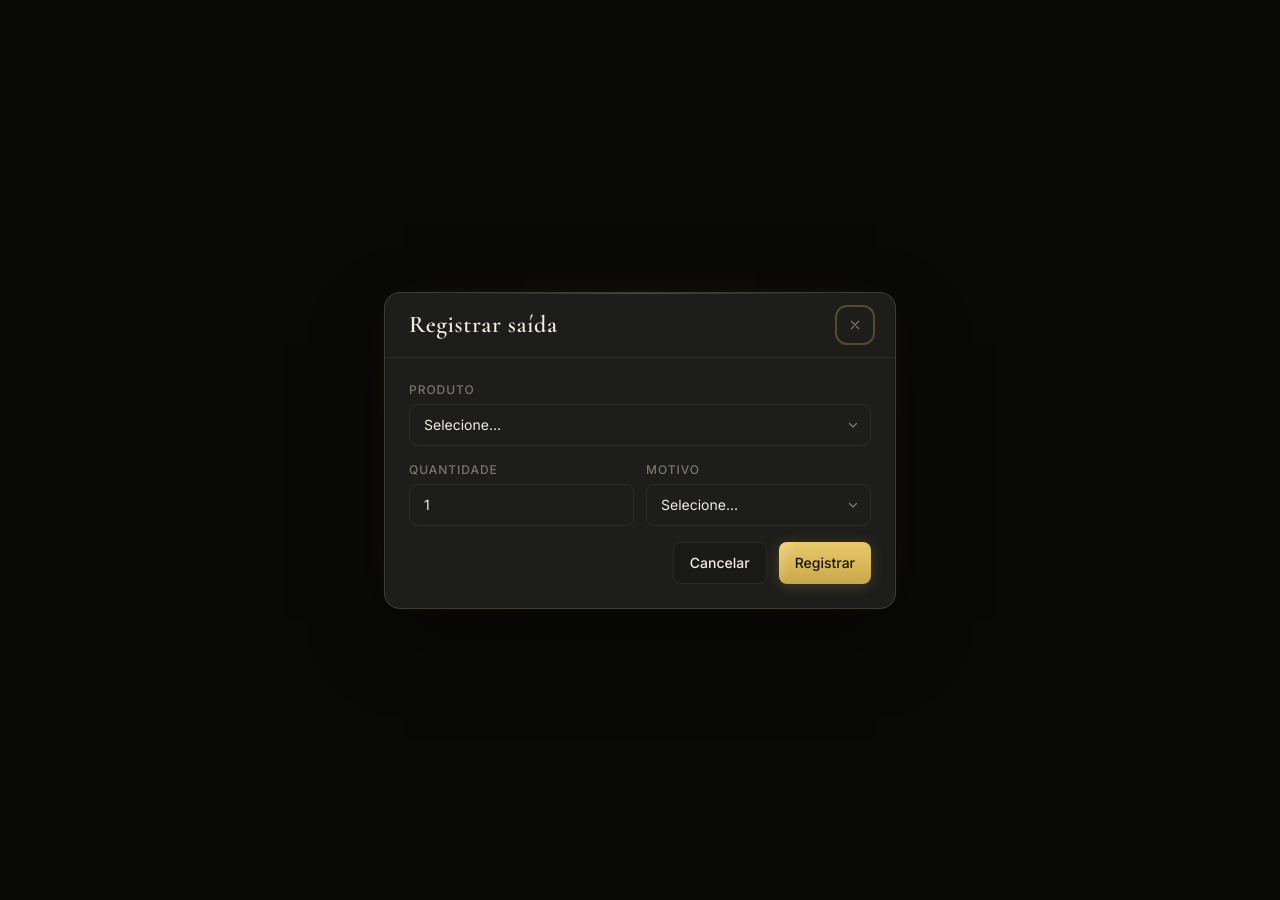
Test: SaidaRapidaModal › exibe o erro da RPC (ex: estoque insuficiente)
Step 1. Select "Perfume X (10 em estoque)" in the dropdown labelled "Produto" → (640,424), box [409,404,871,446]
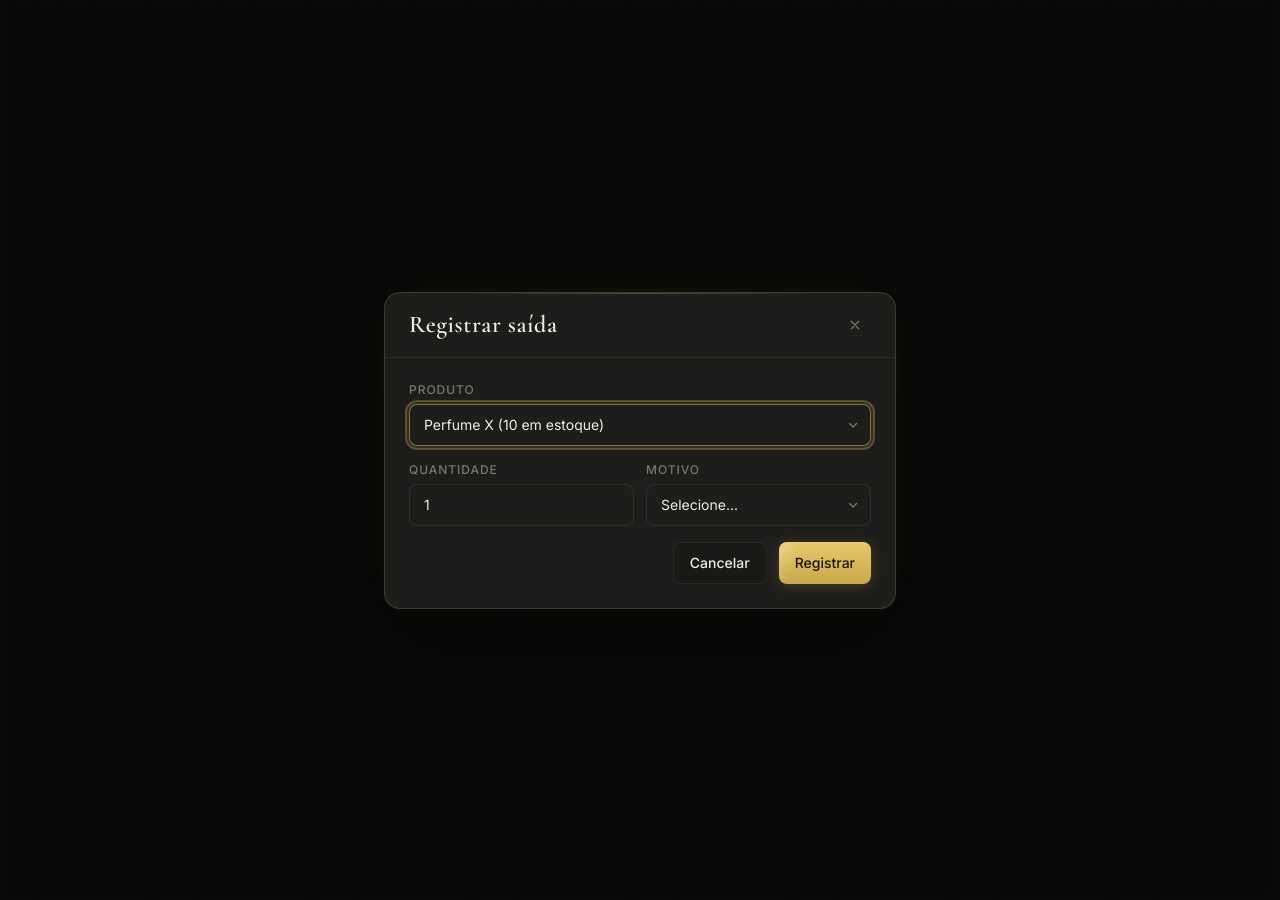
Step 2. Replace the text in the number field labelled "Quantidade" with "99" → (522,504), box [409,484,634,526]
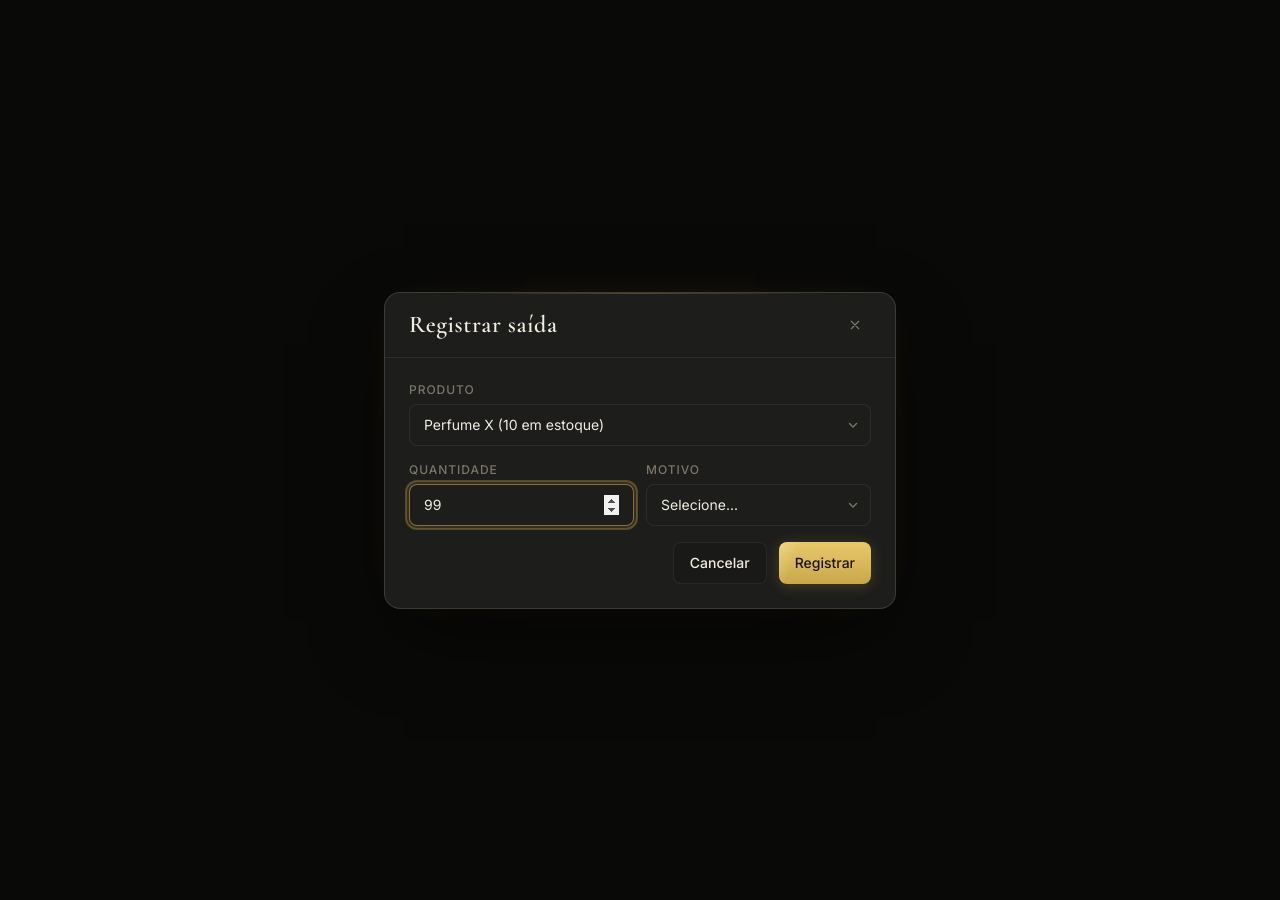
Step 3. Select "Venda" in the dropdown labelled "Motivo" → (758,504), box [646,484,871,526]
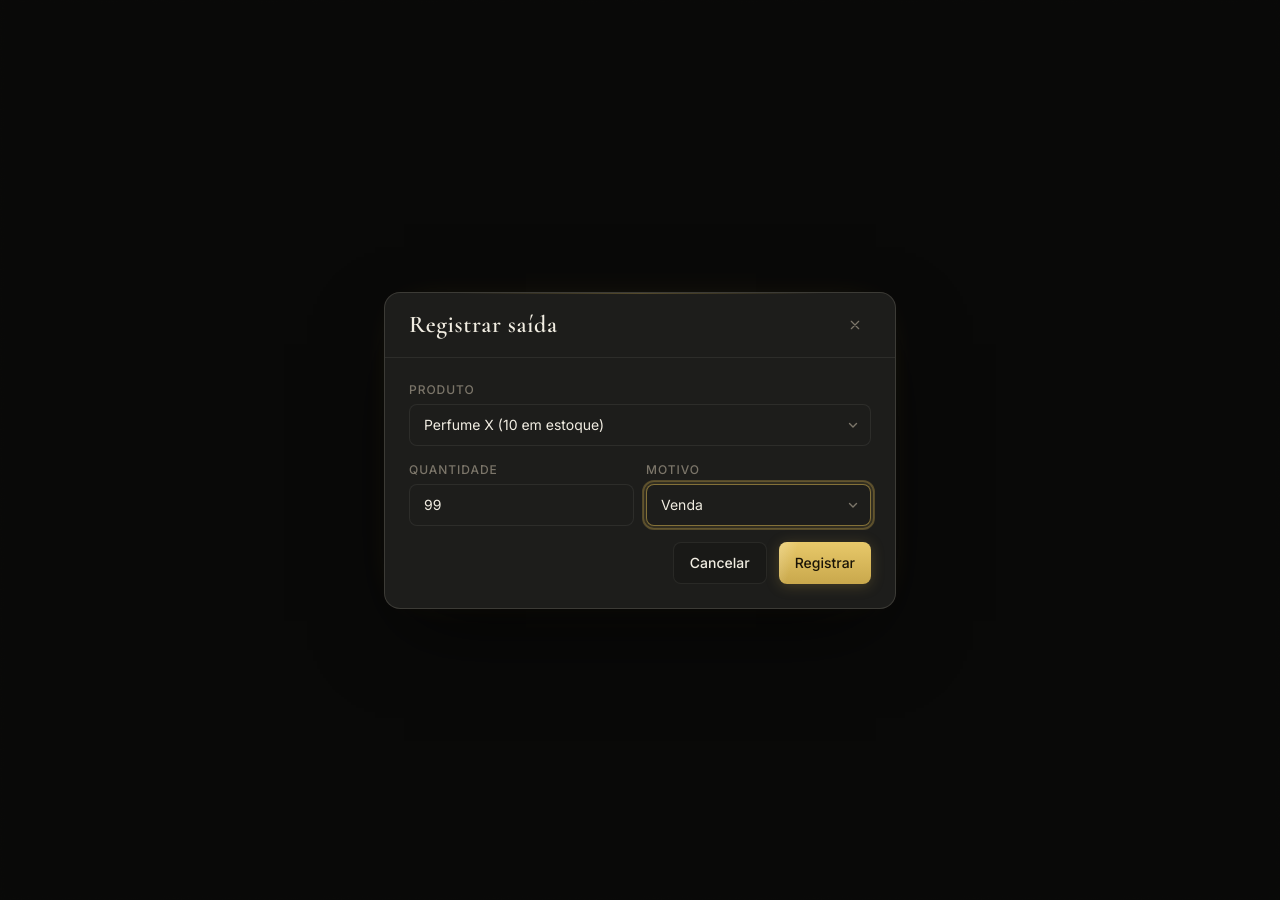
Step 4. Click the button "Registrar" → (825,562), box [779,542,871,584]
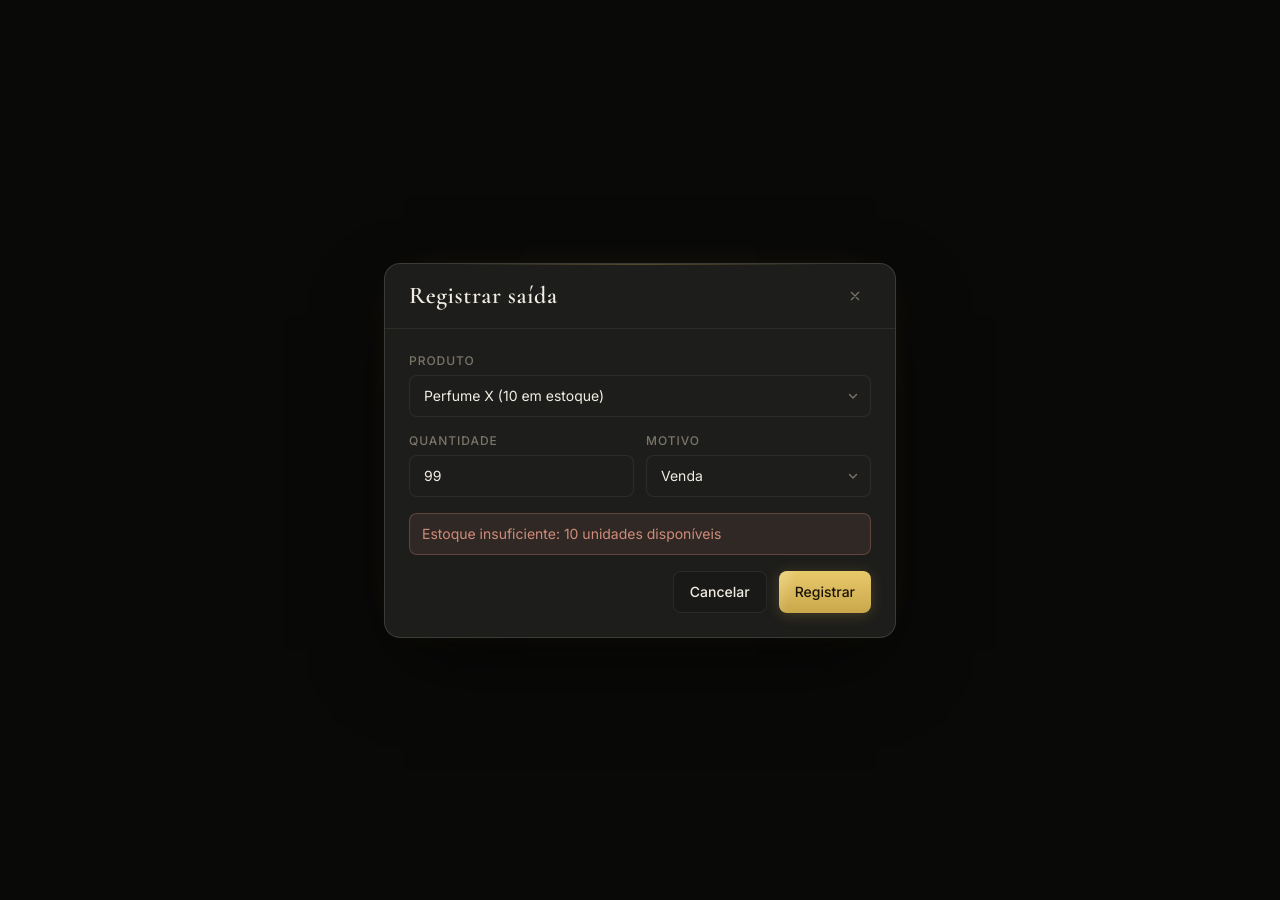
Now the text "Estoque insuficiente: 10 unidades disponíveis" is shown, box [409,512,871,554]
